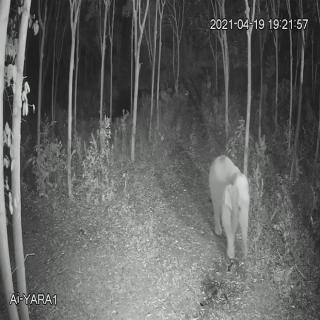Elephant: (204, 150, 256, 270)
